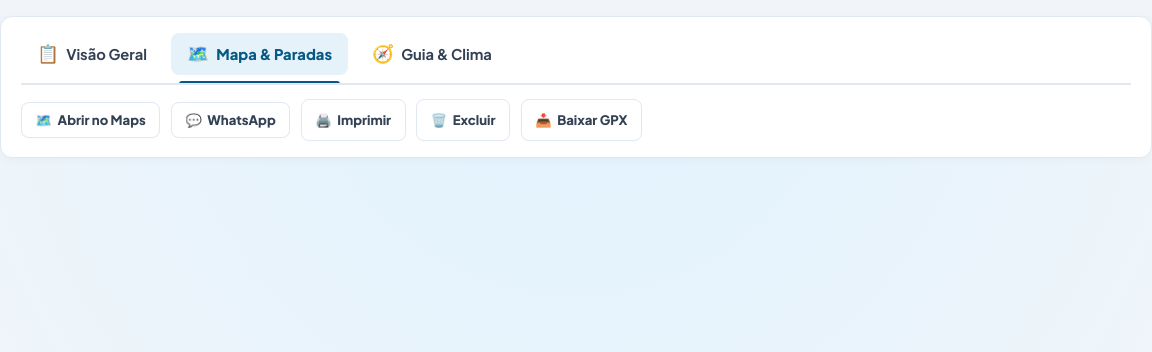
Scenario: TripNavigationTabs (Issue #11: Abas e Ações da Viagem) › apresenta a linha de ações com links externos corretos e botões funcionais
// Ação Imprimir
Click the button "🖨️ Imprimir".
click(353, 120)  # box [301,99,406,141]
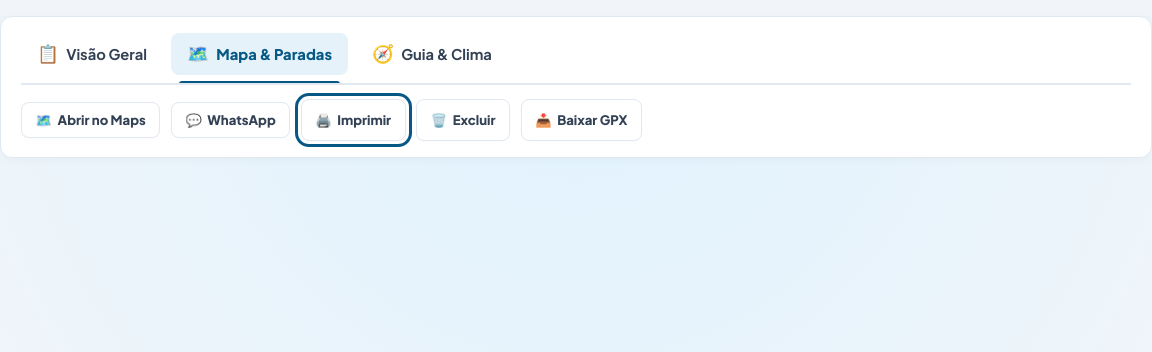
// Ação Excluir
Click the button "🗑️ Excluir".
click(463, 120)  # box [416,99,510,141]
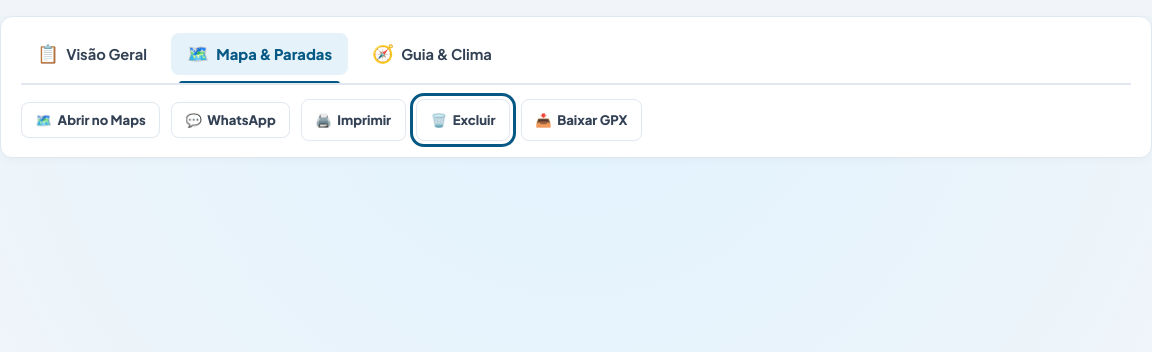
// Ação Baixar GPX
Click the button "📥 Baixar GPX".
click(581, 120)  # box [521,99,642,141]
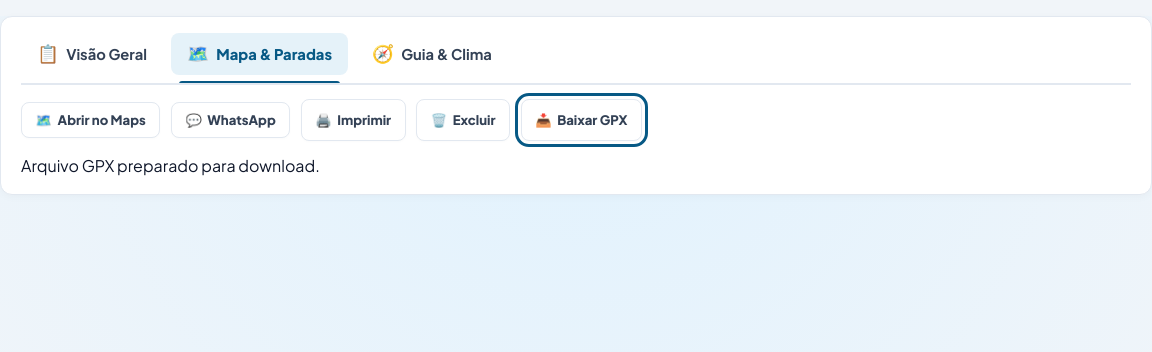
Check: the message shows "Arquivo GPX preparado", box [21,155,320,176]
